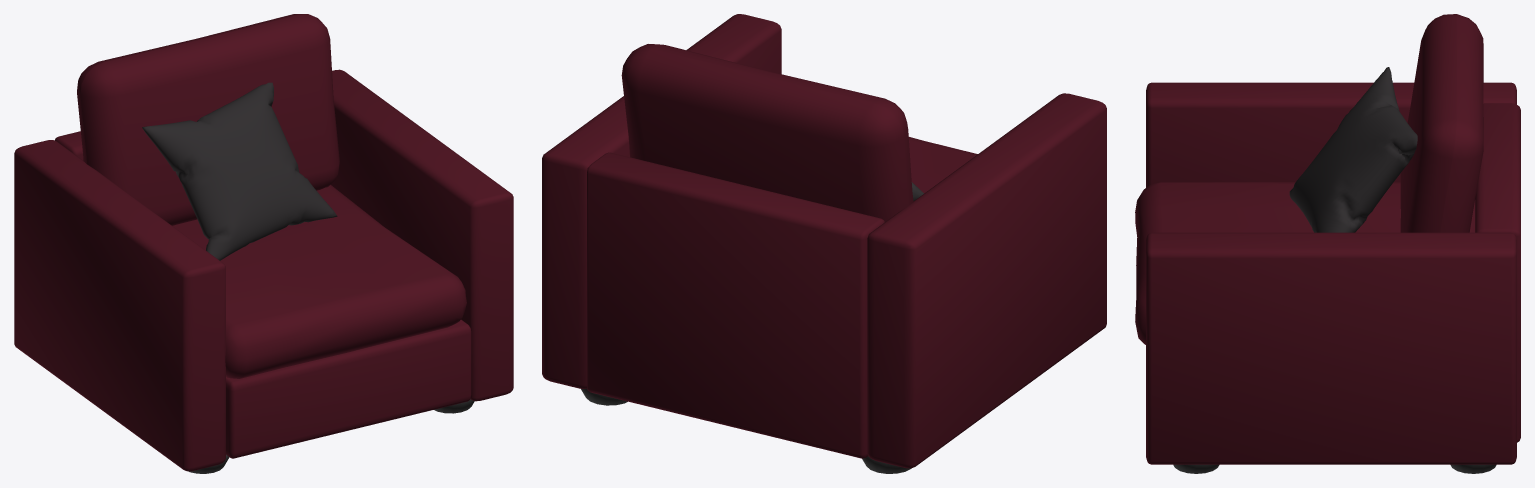
The model's file is red and black armchair.fbx.
3 renders of one model, left to right at view 1: azimuth 30°, elevation 25°; view 2: azimuth 150°, elevation 25°; view 3: azimuth 270°, elevation 25°, orthographic. The views are drawn at different scales.
Parts seen in each view (by area): view 1: Cube; view 2: Cube; view 3: Cube.
Part boxes in pixels (x1,y1,x2,y2): Cube: (14, 14, 513, 473); Cube: (542, 14, 1106, 473); Cube: (1135, 14, 1520, 473).
Size of the model in its own units: 135 by 120 by 127.
